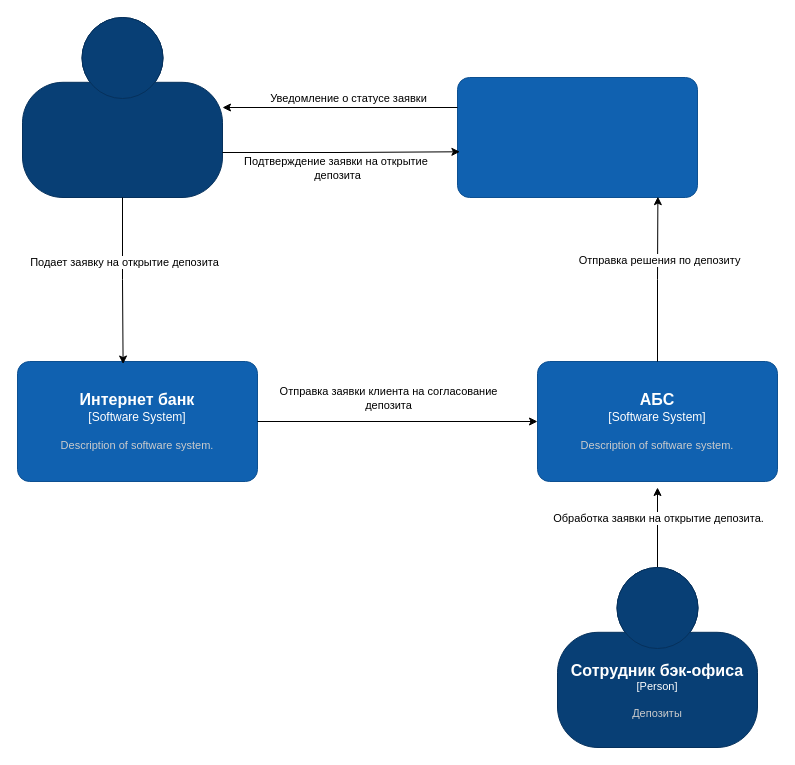
This 795x765 diagram has some shape labels left out. The centre of each missing label's shape, as x and y in pixels:
"Клиент банка [Person] Description of person." goes at (122,107).
"СМС-шлюз [Software System] Description of software system." goes at (577,137).
